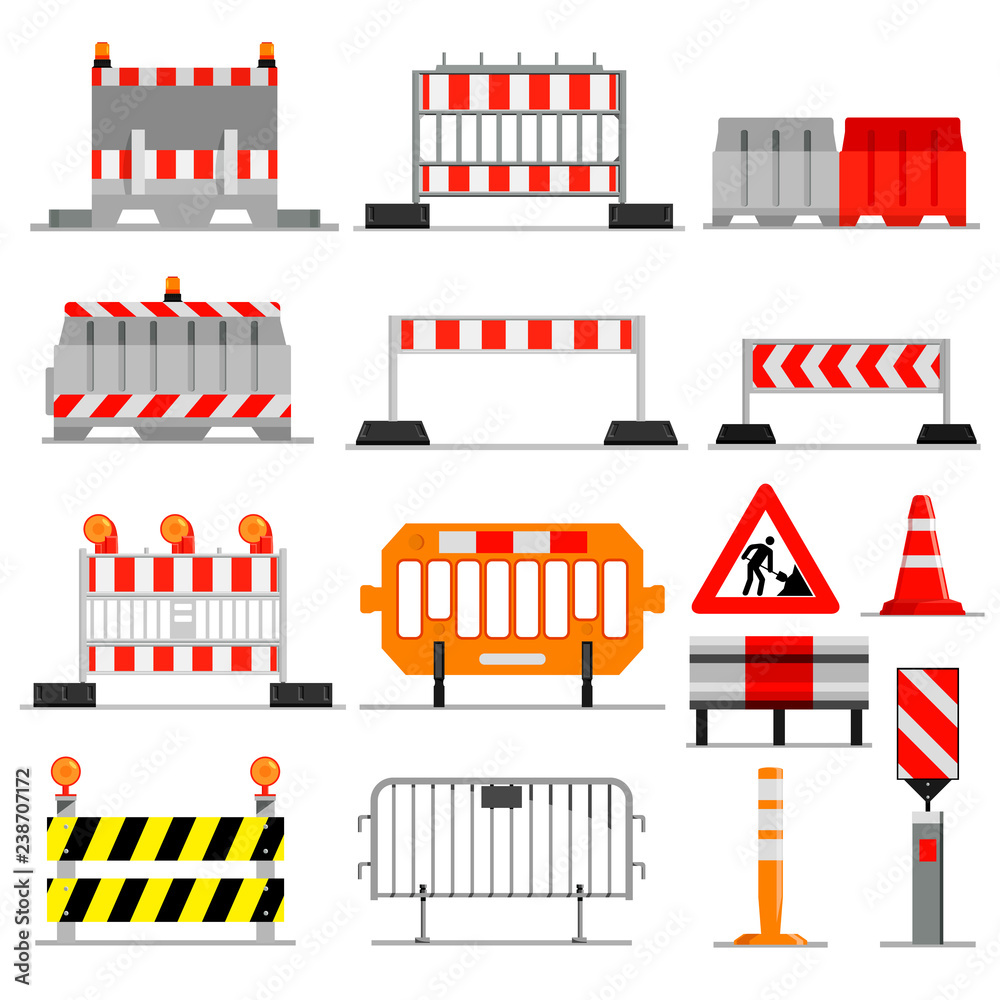Barrier: (13, 31, 348, 259), (352, 515, 677, 748), (336, 291, 710, 485), (15, 510, 348, 724), (348, 43, 693, 248), (329, 770, 678, 970), (22, 266, 329, 478), (695, 88, 1000, 275), (35, 755, 311, 957), (713, 323, 1000, 494), (680, 627, 886, 765), (694, 492, 843, 618)
